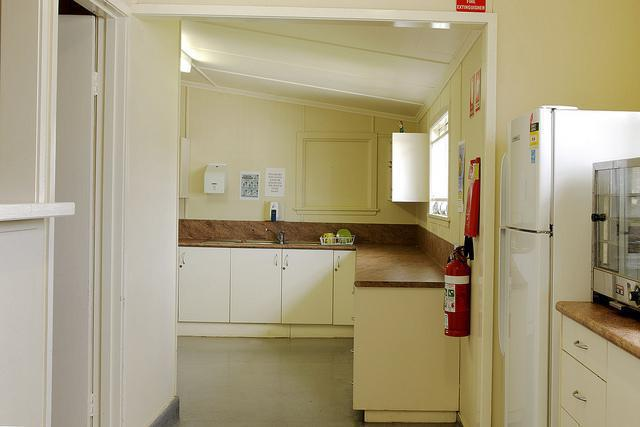Lavaplatos: (243, 225, 287, 247)
